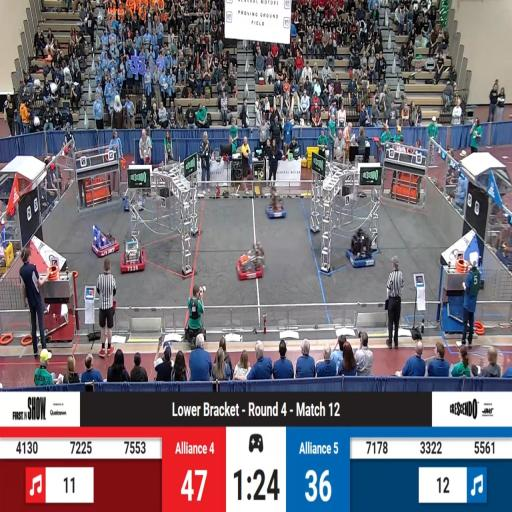robot: (347, 230, 379, 268), (237, 245, 265, 280), (121, 240, 149, 273), (92, 226, 120, 258), (266, 192, 286, 218), (120, 194, 137, 211)
